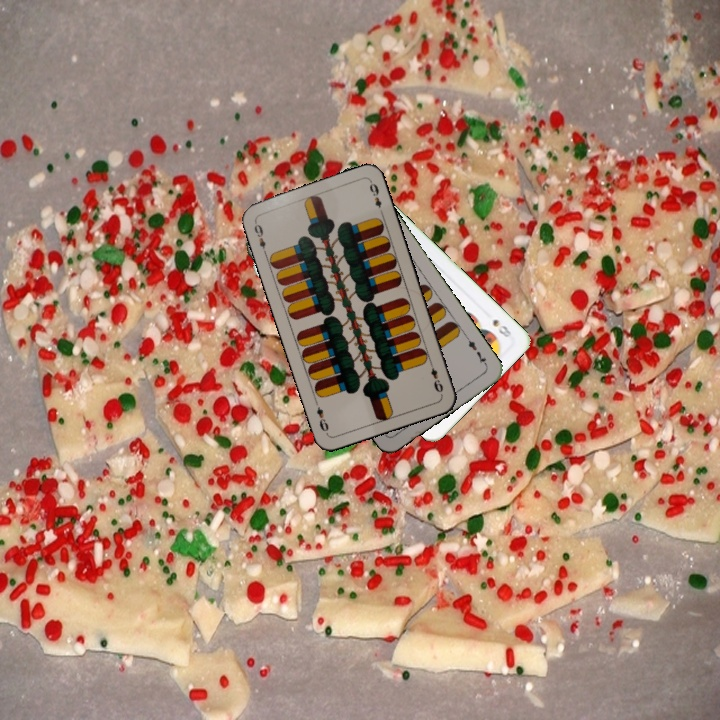E7: (462, 333, 490, 369)
E9: (425, 357, 446, 397), (250, 217, 269, 257)
S8: (488, 315, 514, 340)
